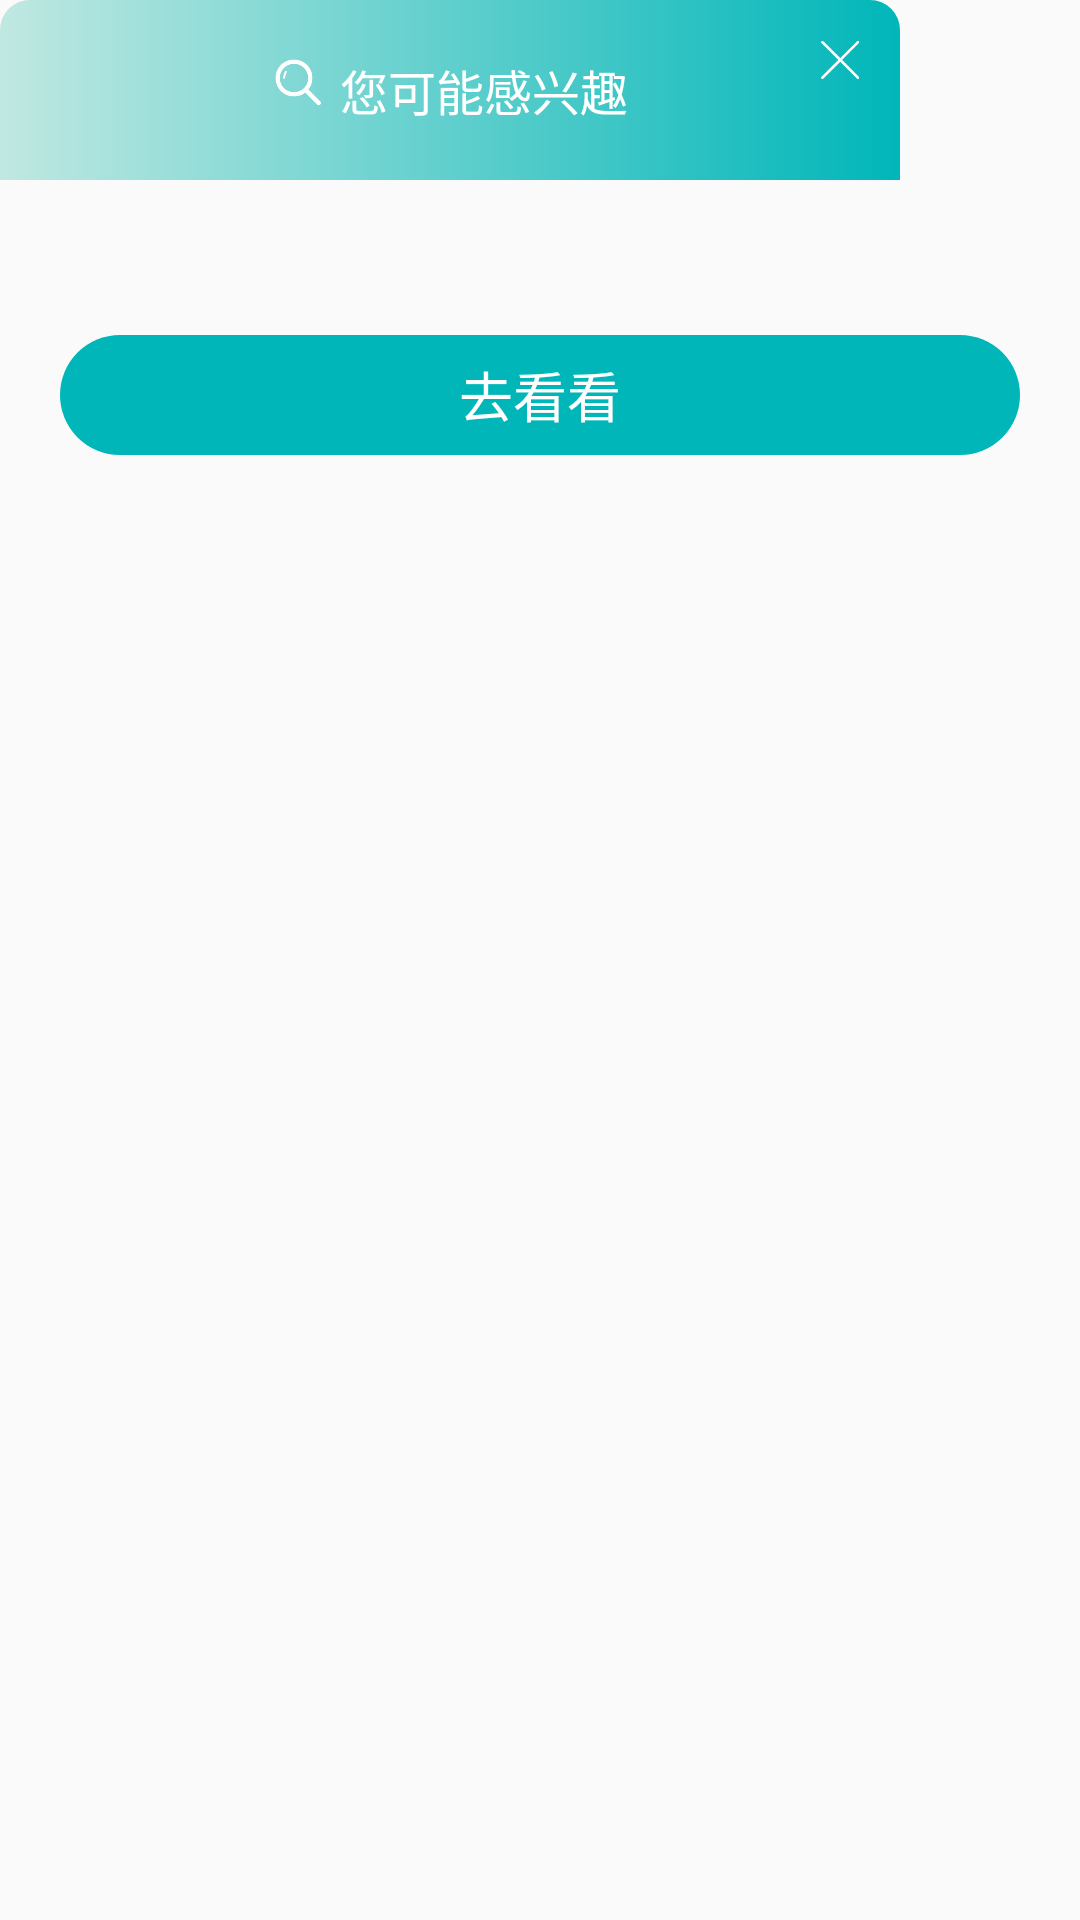

Icon bounding boxes for this 1080px×1920px phone screenshot, format bbox=[x1, y1, x2, y2]:
search: bbox=[275, 59, 321, 105]
